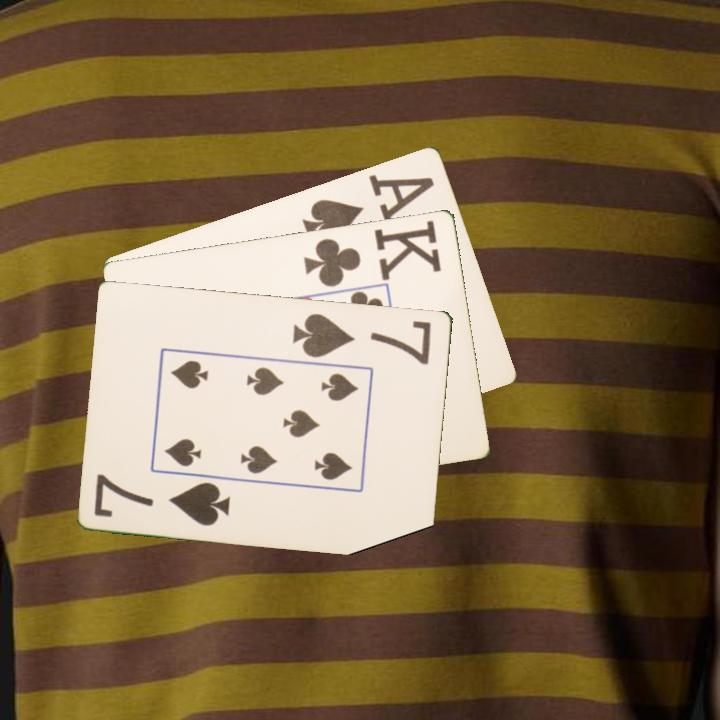7s: (289, 309, 435, 367), (91, 470, 234, 529)
As: (298, 179, 424, 245)
Kc: (300, 216, 445, 290)
